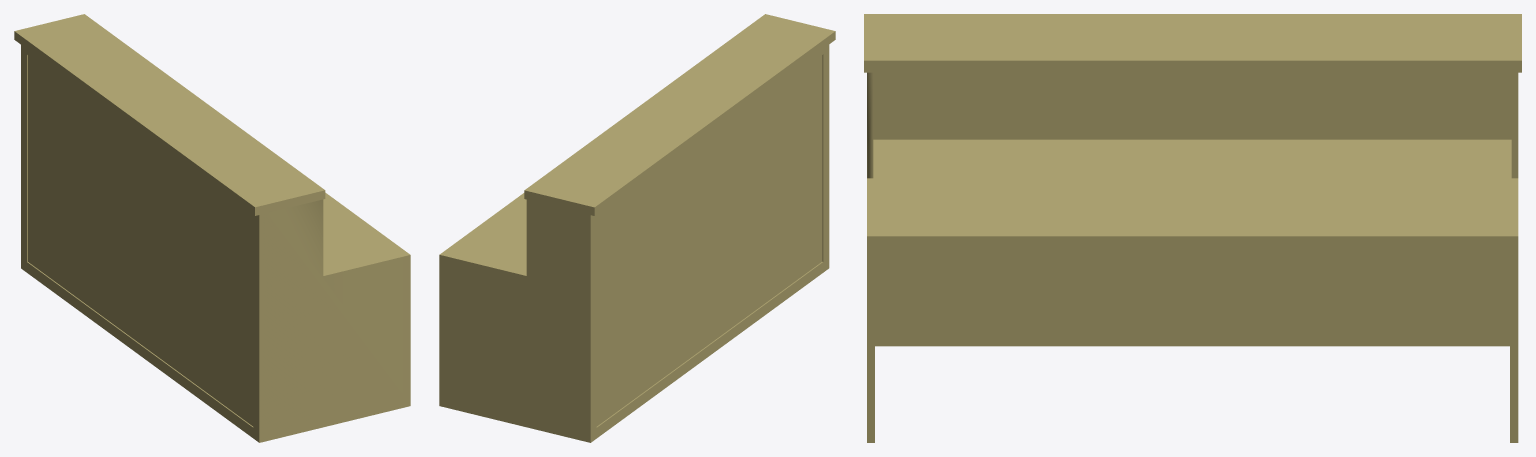
File: reception.glb
3 views of the same model, side by side, from view 1: azimuth 30°, elevation 25°; view 2: azimuth 150°, elevation 25°; view 3: azimuth 270°, elevation 25° (orthographic). The views are drawn at different scales.
Parts seen in each view (by area): view 1: StandAccueil2_low; view 2: StandAccueil2_low; view 3: StandAccueil2_low.
Boxes of the visible parts, box(x1,y1,x2,y2) form: StandAccueil2_low: box(14, 14, 410, 442); StandAccueil2_low: box(439, 14, 835, 442); StandAccueil2_low: box(864, 14, 1521, 442).
Size of the model in its own units: 2.03 by 2.94 by 5.4.
